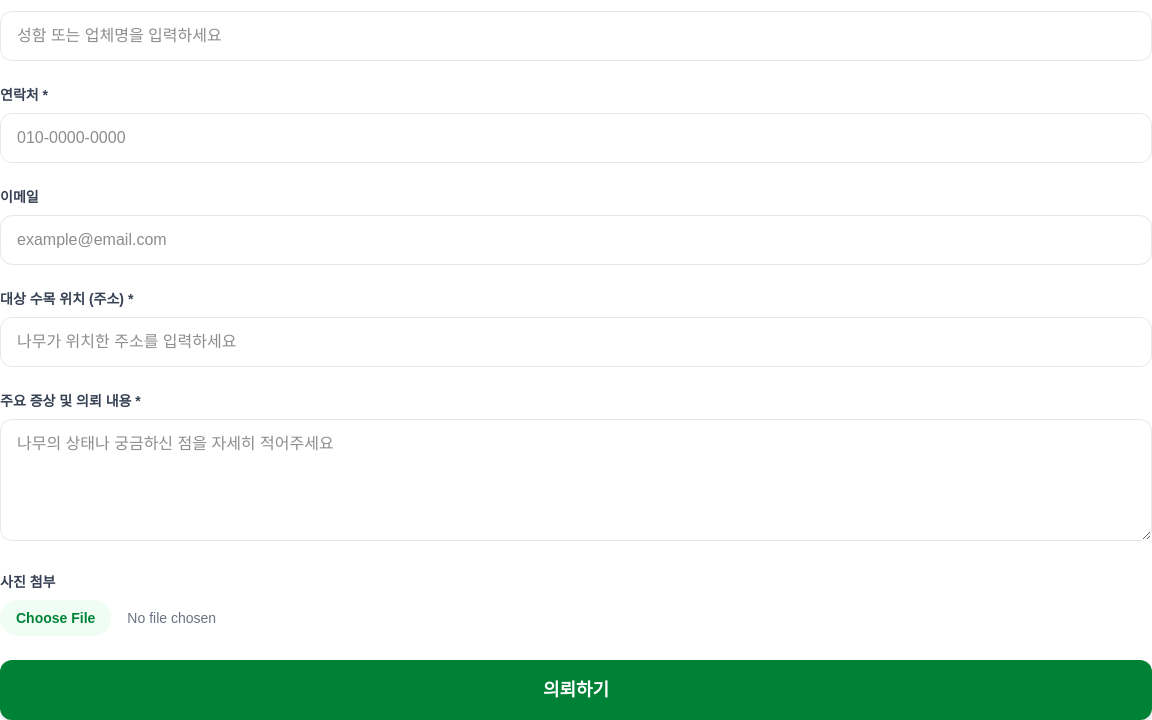
Test: DiagnosisForm › shows error messages for required fields
The width and height of the screenshot is (1152, 720).
(page scrolled)
What coordinates should you click on to do the following:
click the button "의뢰하기"
I would click on:
 (576, 690)
Its box is x1=0 y1=660 x2=1151 y2=719.
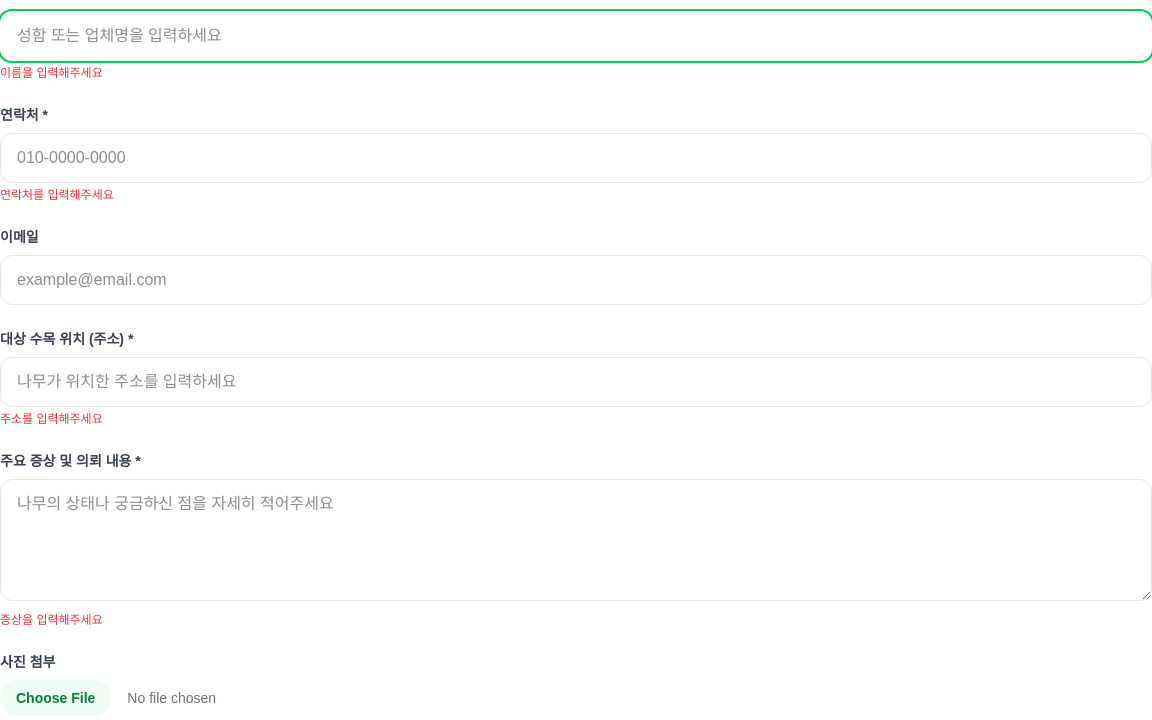
Now the text "이름을 입력해주세요" is shown, box x1=0 y1=66 x2=103 y2=80
Now the text "연락처를 입력해주세요" is shown, box x1=0 y1=188 x2=114 y2=202
Now the text "주소를 입력해주세요" is shown, box x1=0 y1=412 x2=103 y2=426
